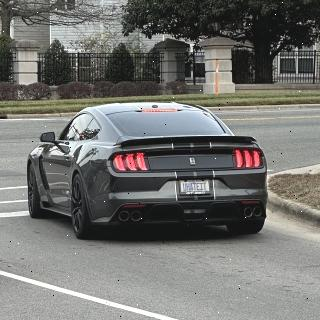license: (180, 178, 212, 196)
